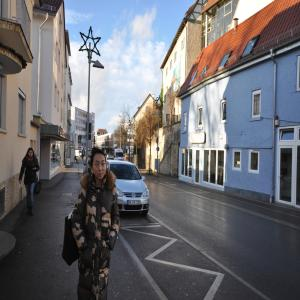Vehicle-registration-plate: (129, 201, 142, 206)
